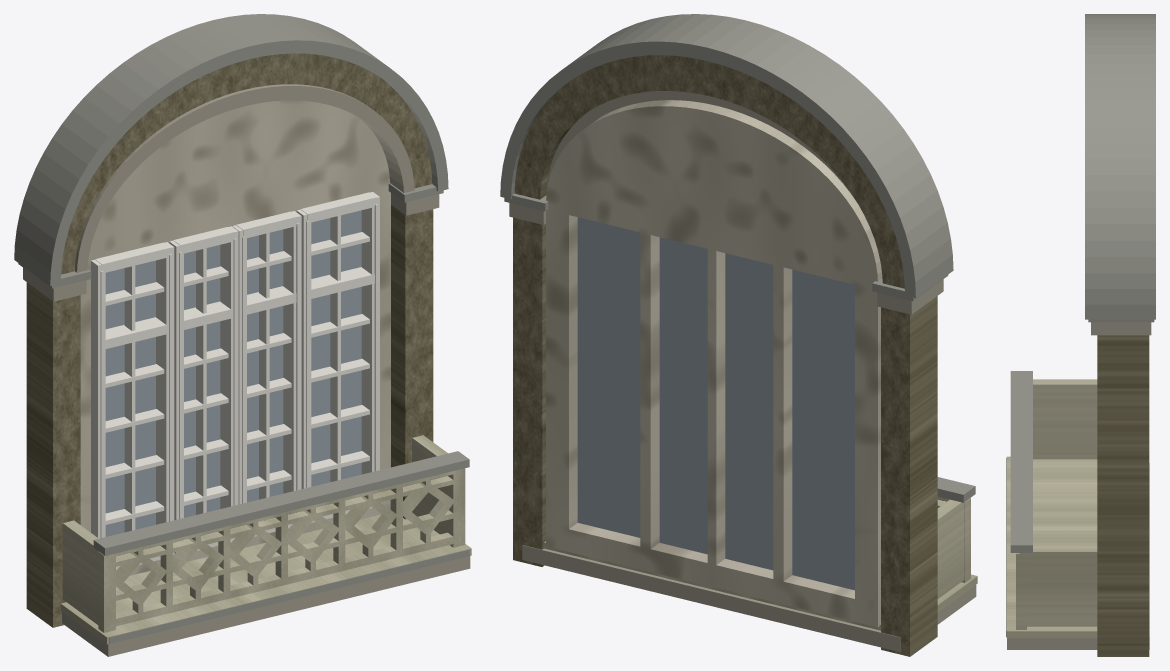
The model's file is zhoushan-394-arched-window-and-diamond-balcony-near.glb.
3 renders of one model, left to right at view 1: azimuth 30°, elevation 25°; view 2: azimuth 150°, elevation 25°; view 3: azimuth 270°, elevation 25°, orthographic. The views are drawn at different scales.
Parts seen in each view (by area): view 1: 舟山路394号住宅二层弧形窗罩与六菱格阳台; view 2: 舟山路394号住宅二层弧形窗罩与六菱格阳台; view 3: 舟山路394号住宅二层弧形窗罩与六菱格阳台.
Part boxes in pixels (bbox=[...]): 舟山路394号住宅二层弧形窗罩与六菱格阳台: bbox=[14, 14, 471, 656]; 舟山路394号住宅二层弧形窗罩与六菱格阳台: bbox=[500, 14, 977, 656]; 舟山路394号住宅二层弧形窗罩与六菱格阳台: bbox=[1006, 14, 1155, 656].
Size of the model in its own units: 3.25 by 4.21 by 1.08.
Materials: 7 (3 with a texture image).
